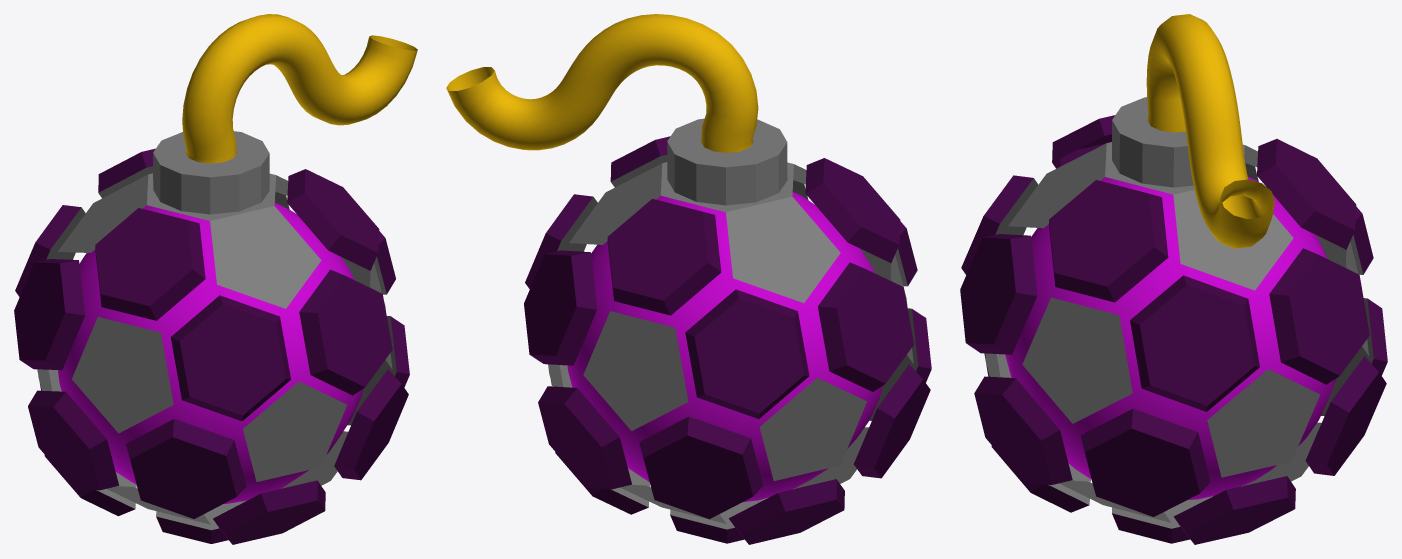
File: purple bomb temp.fbx
The picture shows the model from 3 angles, left to right: view 1: azimuth 30°, elevation 25°; view 2: azimuth 150°, elevation 25°; view 3: azimuth 270°, elevation 25°; orthographic projection. The views are drawn at different scales.
Visible parts, largest first — view 1: polySurface14, polySurface11, pSphere1; view 2: polySurface14, polySurface11, pSphere1; view 3: polySurface14, pSphere1, polySurface11.
Part boxes in pixels (x1,y1,x2,y2): polySurface14: (14, 131, 409, 544); polySurface11: (182, 14, 417, 163); pSphere1: (58, 202, 363, 503); polySurface14: (524, 118, 931, 544); polySurface11: (446, 14, 758, 152); pSphere1: (567, 192, 882, 501); polySurface14: (960, 97, 1387, 544); pSphere1: (1005, 177, 1336, 499); polySurface11: (1146, 14, 1274, 248).
Size of the model in its own units: 13.43 by 15.05 by 11.2.
